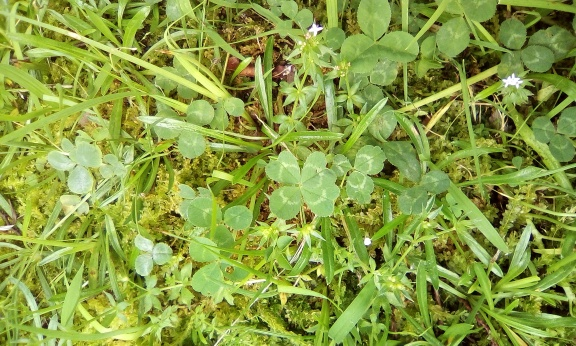4leaf: (265, 150, 339, 221)
